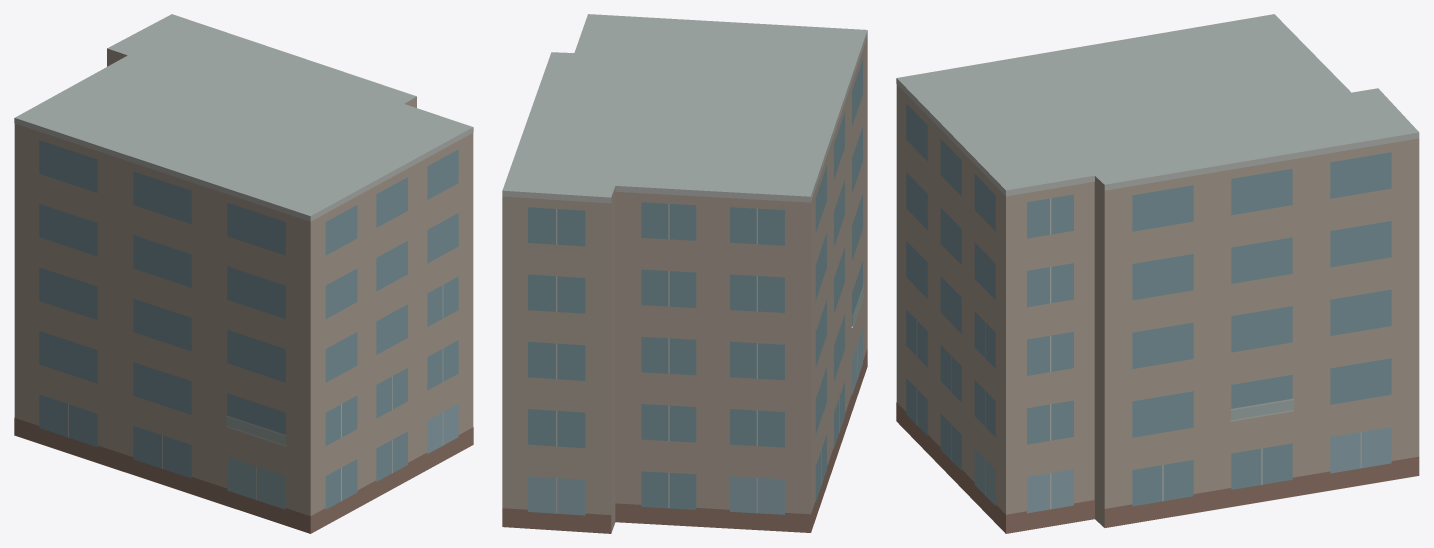
File: survey-upis-32832371.glb
3 renders of one model, left to right at view 1: azimuth 30°, elevation 25°; view 2: azimuth 150°, elevation 25°; view 3: azimuth 270°, elevation 25°, orthographic. The views are drawn at different scales.
Visible parts, largest first — view 1: survey-upis-32832371.tmp; view 2: survey-upis-32832371.tmp; view 3: survey-upis-32832371.tmp.
Part boxes in pixels (x1,y1,x2,y2): survey-upis-32832371.tmp: (14,14,473,533); survey-upis-32832371.tmp: (502,14,867,533); survey-upis-32832371.tmp: (896,14,1419,533).
Bounding box in the file's own units: 15.45 × 14 × 19.33.
